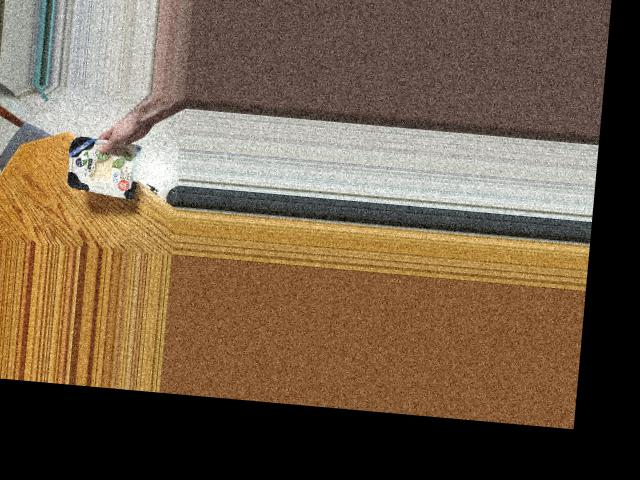cheese: (54, 137, 153, 200)
